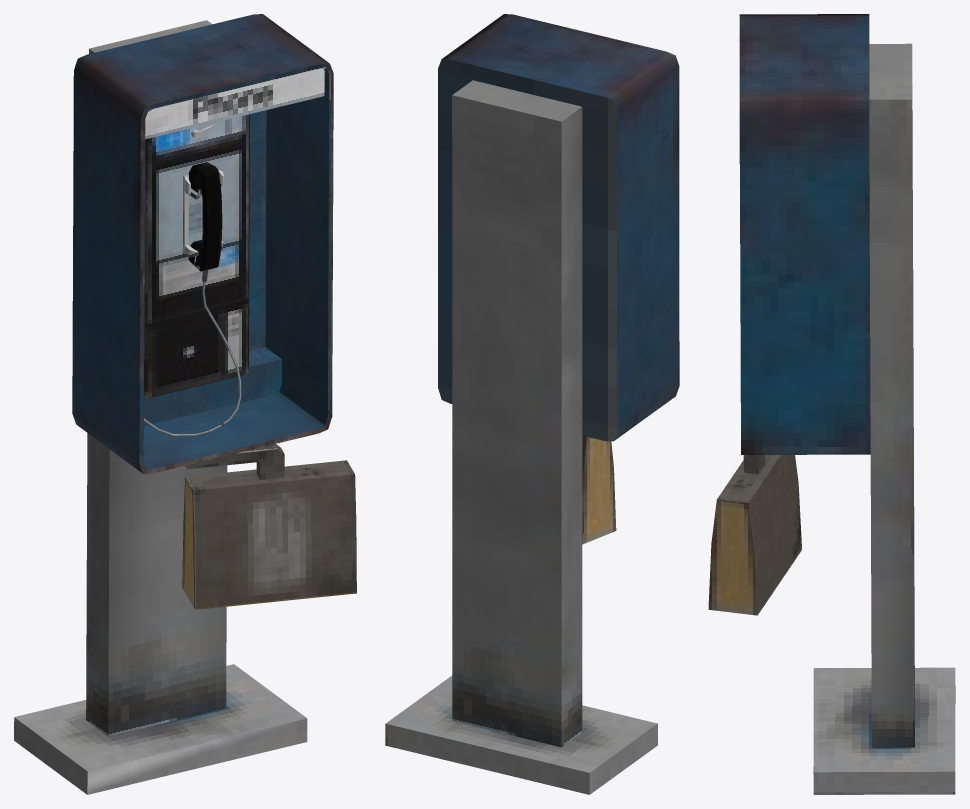
Rendered from street_phone.glb.
The picture shows the model from 3 angles, left to right: view 1: azimuth 30°, elevation 25°; view 2: azimuth 150°, elevation 25°; view 3: azimuth 270°, elevation 25°; orthographic projection. The views are drawn at different scales.
Visible parts, largest first — view 1: payphone; view 2: payphone; view 3: payphone.
Part boxes in pixels (x1,y1,x2,y2): payphone: (14,14,356,794); payphone: (385,14,679,794); payphone: (708,14,955,794).
Size of the model in its own units: 0.735 by 2.2 by 0.7157.
1 material, 1 textured.
